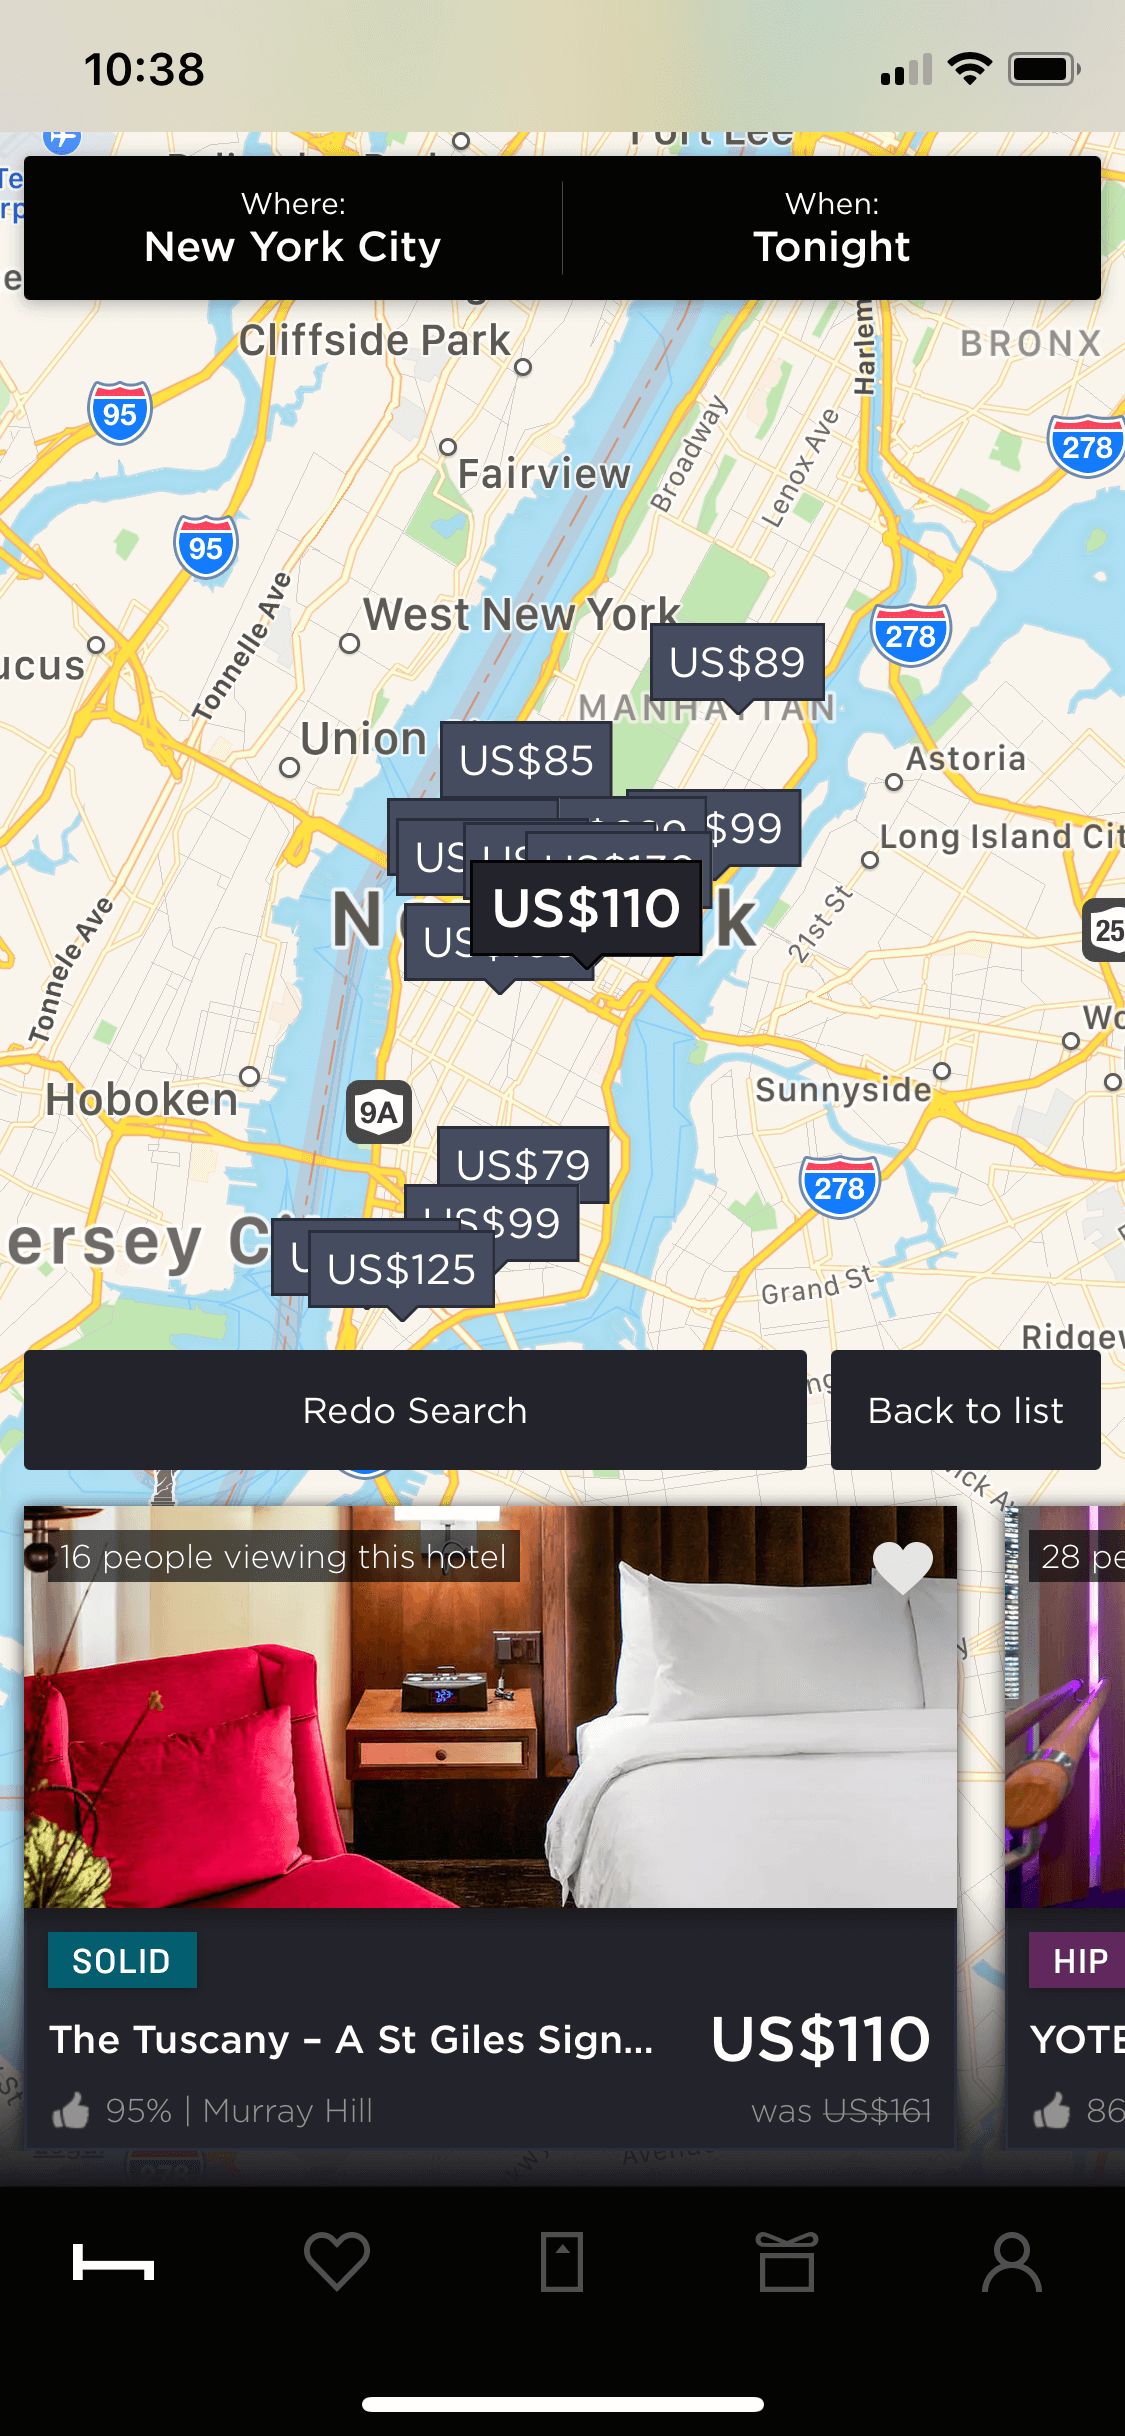Buttons: (864, 1533, 939, 1613)
FAB (Floating Action Button): (19, 1338, 814, 1477), (820, 1345, 1108, 1481)
